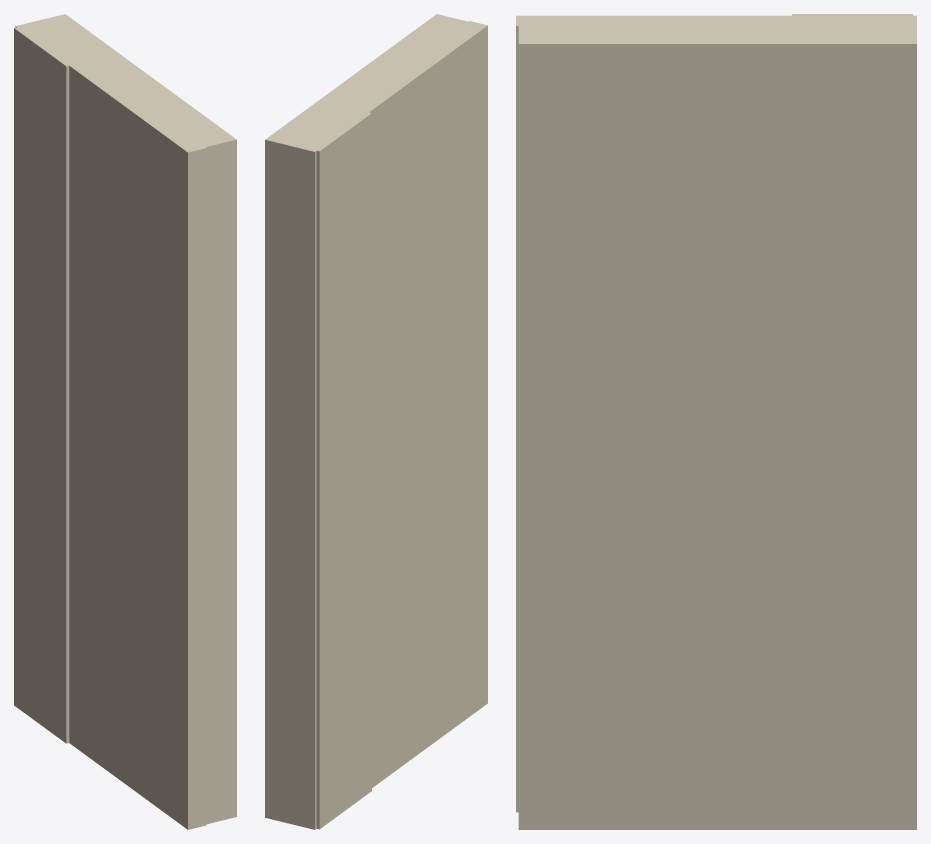
3 views of the same model, side by side, from view 1: azimuth 30°, elevation 25°; view 2: azimuth 150°, elevation 25°; view 3: azimuth 270°, elevation 25° (orthographic). The views are drawn at different scales.
Parts seen in each view (by area): view 1: A-GF-WALL-001; view 2: A-GF-WALL-001; view 3: A-GF-WALL-001.
Boxes of the visible parts, x1,y1,x2,y2 form: A-GF-WALL-001: (14,14,236,829); A-GF-WALL-001: (265,14,487,829); A-GF-WALL-001: (516,14,916,829).
Bounding box in the file's own units: 0.222 × 2.72 × 1.26.
